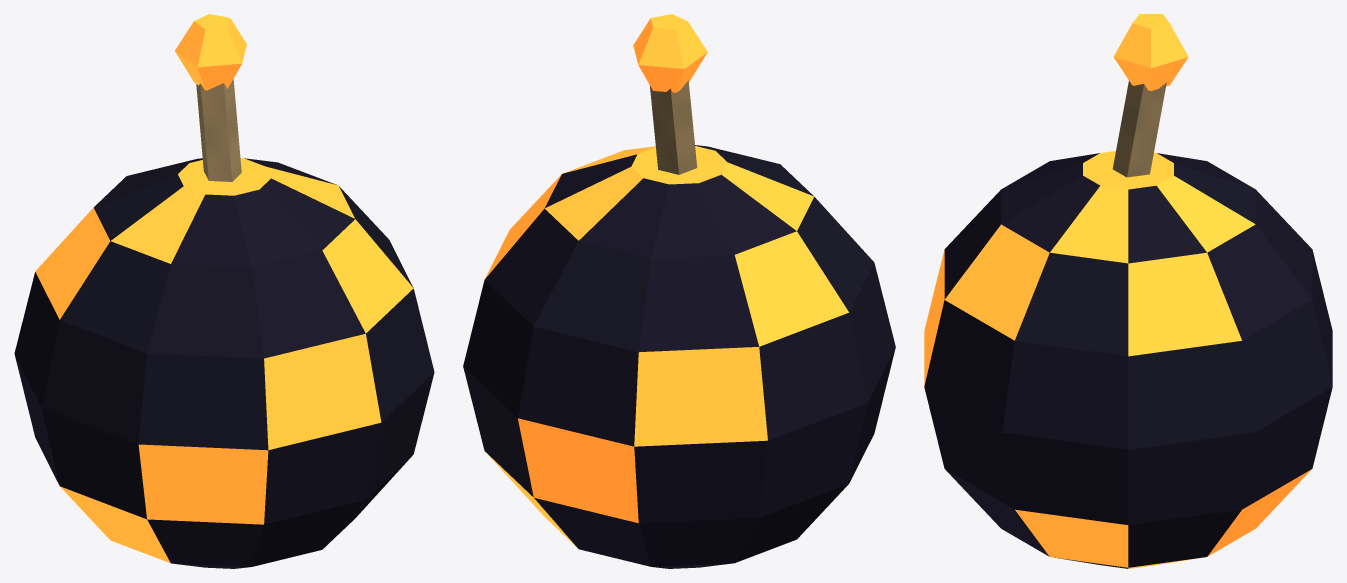
The model's file is SM_Prop_FireShot_HQ.glb.
3 renders of one model, left to right at view 1: azimuth 30°, elevation 25°; view 2: azimuth 150°, elevation 25°; view 3: azimuth 270°, elevation 25°, orthographic. The views are drawn at different scales.
Visible parts, largest first — view 1: SM_Prop_FireShot_HQ; view 2: SM_Prop_FireShot_HQ; view 3: SM_Prop_FireShot_HQ.
Part boxes in pixels (<box>): SM_Prop_FireShot_HQ: <box>14,14,434,568</box>; SM_Prop_FireShot_HQ: <box>463,14,895,568</box>; SM_Prop_FireShot_HQ: <box>924,14,1332,568</box>.
Size of the model in its own units: 0.38 by 0.5155 by 0.3614.
1 material, 1 textured.
